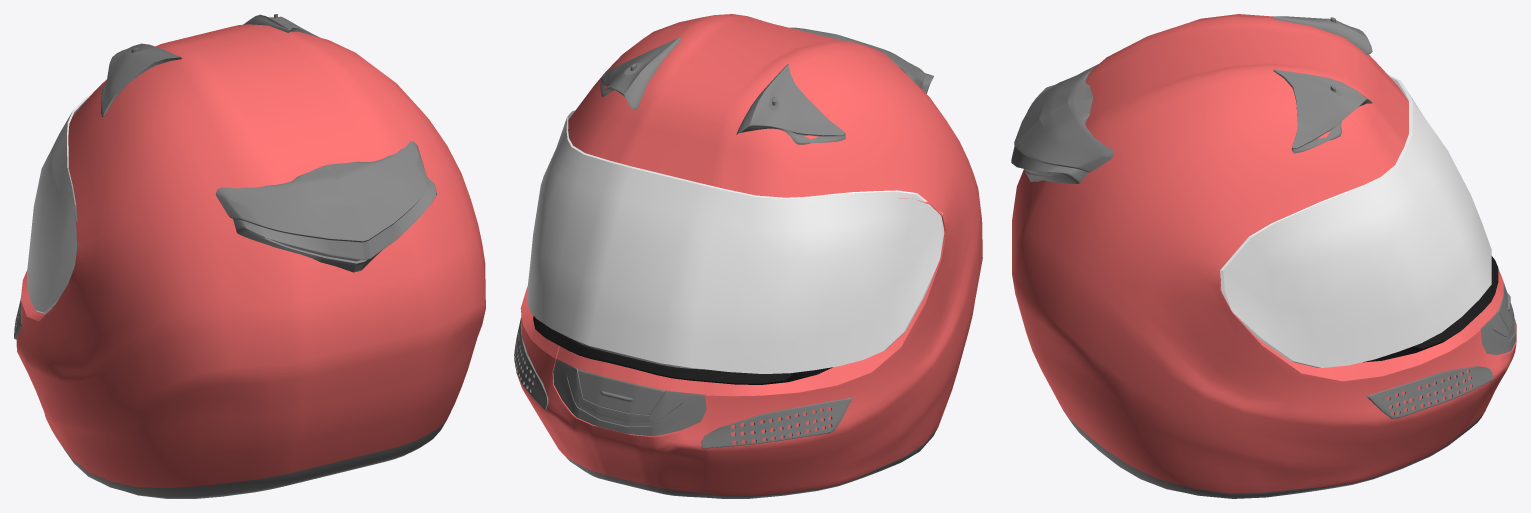
Rendered from helmet.fbx.
3 views of the same model, side by side, from view 1: azimuth 30°, elevation 25°; view 2: azimuth 150°, elevation 25°; view 3: azimuth 270°, elevation 25° (orthographic).
Visible parts, largest first — view 1: polySurface136, polySurface147, polySurface124; view 2: polySurface136, polySurface124, polySurface147, polySurface134; view 3: polySurface136, polySurface124, polySurface147, polySurface134.
Part boxes in pixels (x1,y1,x2,y2): polySurface136: [16, 24, 485, 498]; polySurface147: [14, 14, 436, 339]; polySurface124: [27, 94, 91, 313]; polySurface136: [516, 14, 982, 498]; polySurface124: [527, 110, 944, 373]; polySurface147: [514, 27, 933, 448]; polySurface134: [533, 316, 832, 384]; polySurface136: [1012, 14, 1516, 498]; polySurface124: [1220, 74, 1491, 367]; polySurface147: [1011, 16, 1516, 418]; polySurface134: [1363, 256, 1498, 362].
Bounding box in the file's own units: 21.94 × 21.06 × 25.67.
